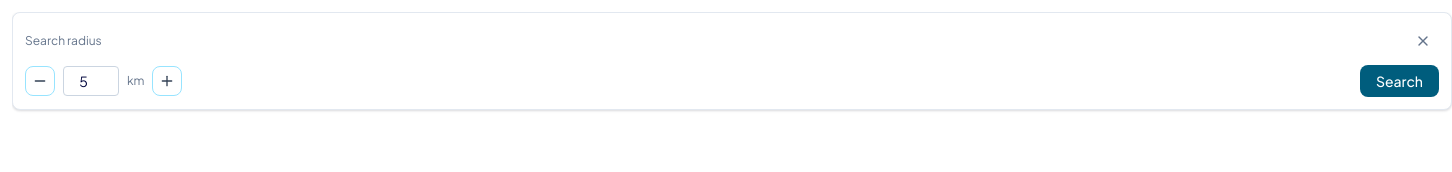
it: RadiusAdjuster › Expanded stepper › collapses back to the caption when the close button is clicked
The image size is (1452, 172).
Click the button named "Close search radius".
click(1423, 41)  # box top-left (1407, 25), bottom-right (1439, 57)
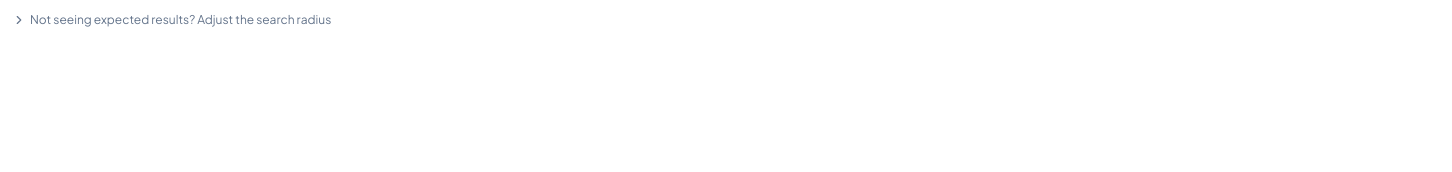
Check: the button "Not seeing expected results? Adjust the search radius" is shown, box top-left (12, 12), bottom-right (331, 28)
